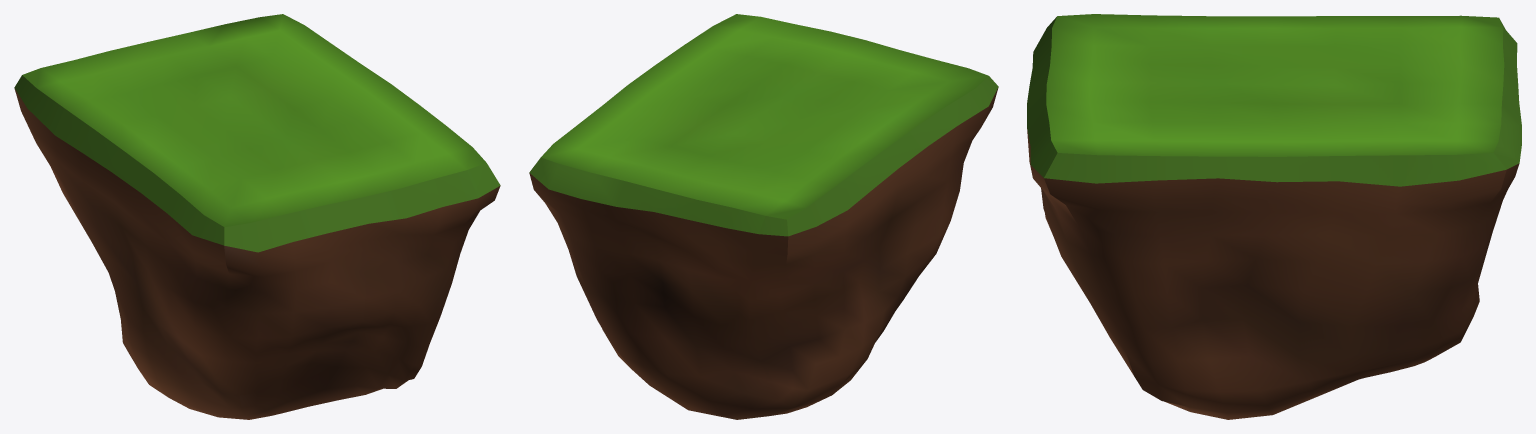
File: DirtPlatform3_1.0.fbx
The picture shows the model from 3 angles, left to right: view 1: azimuth 30°, elevation 25°; view 2: azimuth 150°, elevation 25°; view 3: azimuth 270°, elevation 25°; orthographic projection. The views are drawn at different scales.
Parts seen in each view (by area): view 1: DirtPlatform3; view 2: DirtPlatform3; view 3: DirtPlatform3.
Part boxes in pixels (x1=…): DirtPlatform3: x1=14, y1=14, x2=500, y2=419; DirtPlatform3: x1=529, y1=14, x2=998, y2=419; DirtPlatform3: x1=1027, y1=14, x2=1521, y2=419.
Bounding box in the file's own units: 415 × 376 × 554.
